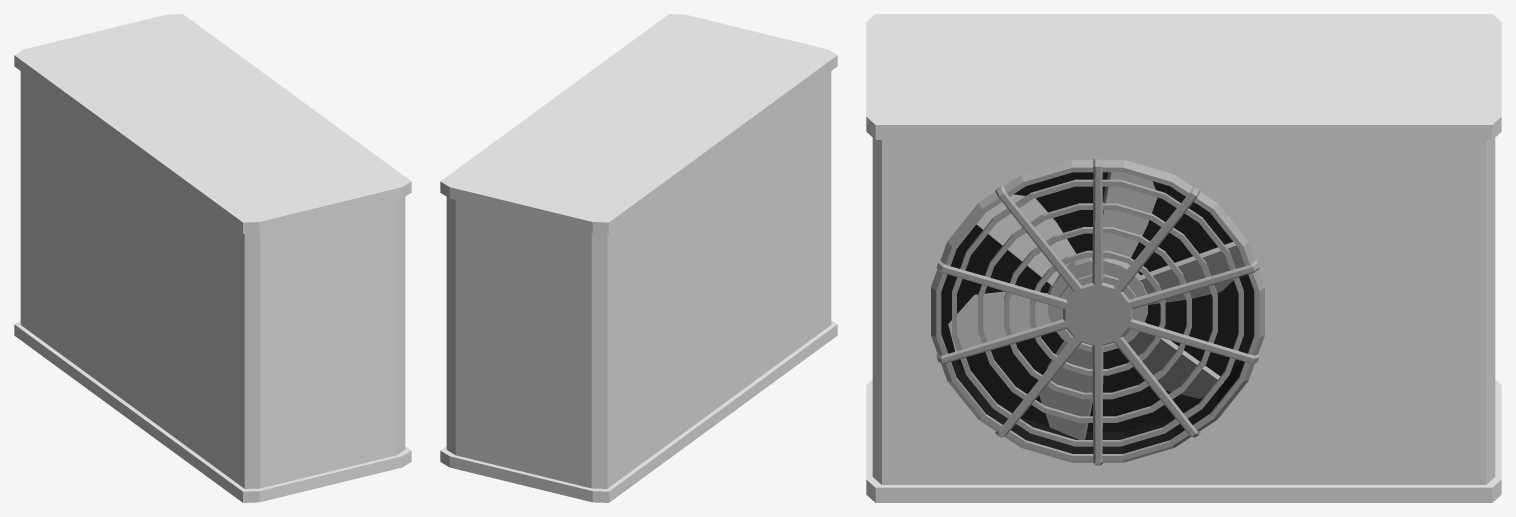
Rendered from Air conditioner.glb.
The picture shows the model from 3 angles, left to right: view 1: azimuth 30°, elevation 25°; view 2: azimuth 150°, elevation 25°; view 3: azimuth 270°, elevation 25°; orthographic projection. The views are drawn at different scales.
Parts seen in each view (by area): view 1: Air_Conditioner; view 2: Air_Conditioner; view 3: Air_Conditioner.
Part boxes in pixels (<box>): Air_Conditioner: <box>14,14,411,502</box>; Air_Conditioner: <box>440,14,837,502</box>; Air_Conditioner: <box>866,14,1501,502</box>.
Size of the model in its own units: 87.8 by 138 by 210.
Materials: 1 (1 with a texture image).
